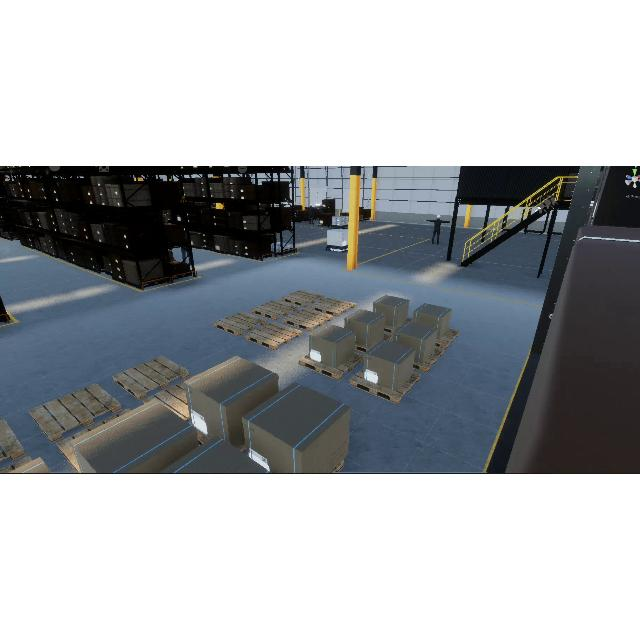wooden_pallet: (29, 382, 121, 443), (112, 356, 189, 400), (348, 369, 421, 404), (298, 353, 365, 381), (245, 322, 303, 350), (213, 312, 267, 337), (282, 307, 334, 332), (310, 298, 357, 317), (251, 301, 299, 319), (413, 347, 444, 374), (281, 289, 325, 307), (436, 327, 459, 350)
